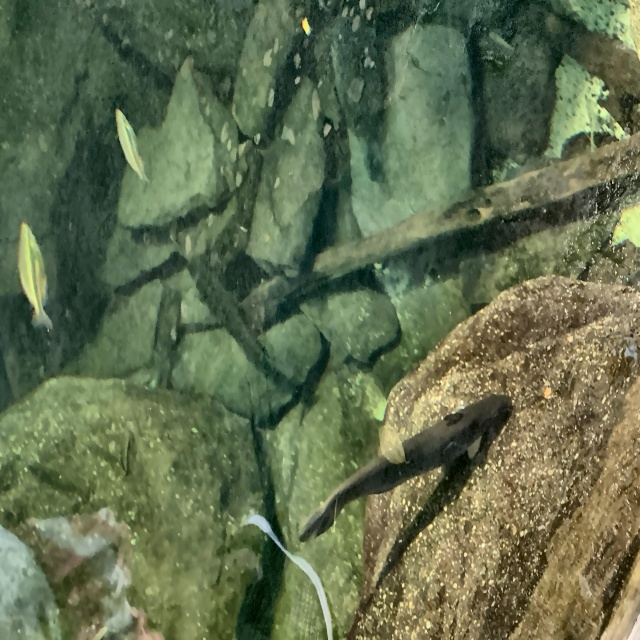fish: (297, 391, 515, 550), (16, 219, 55, 333), (112, 105, 153, 181)
